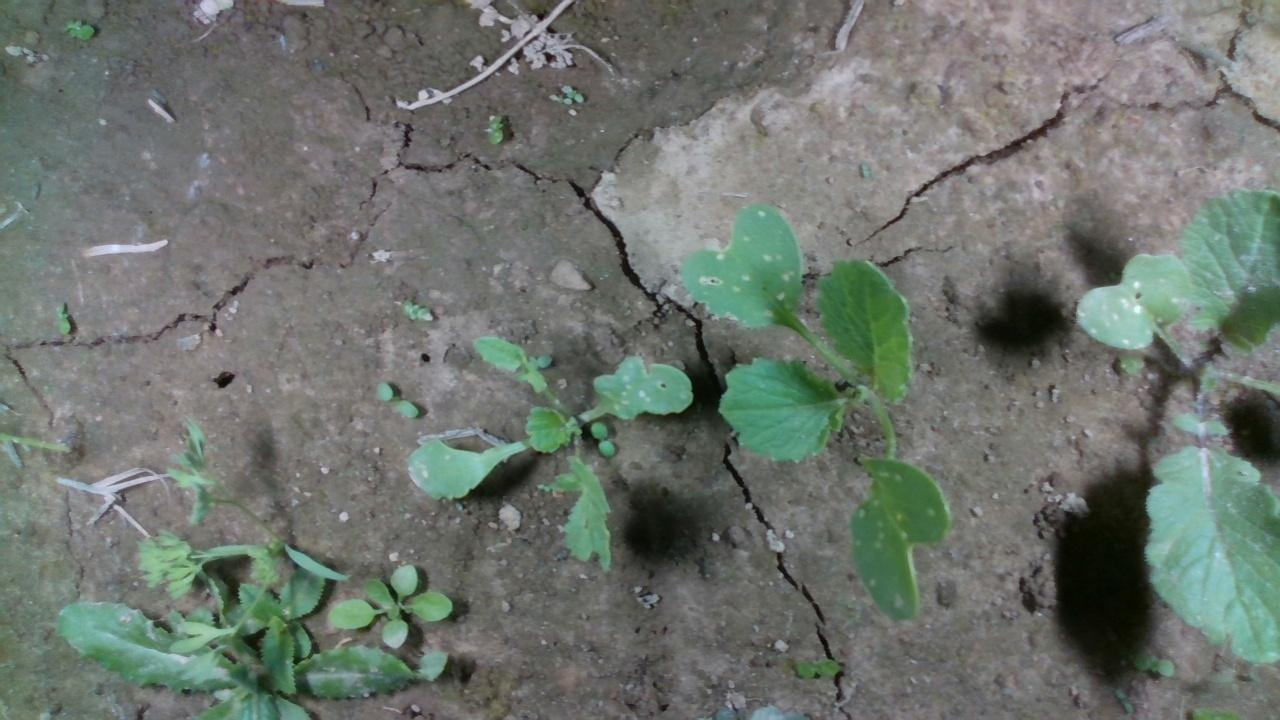weed: (372, 369, 429, 422), (548, 81, 592, 122), (478, 110, 513, 151), (61, 15, 102, 49), (791, 654, 841, 679), (589, 420, 617, 459), (394, 296, 429, 325), (857, 161, 879, 179)
